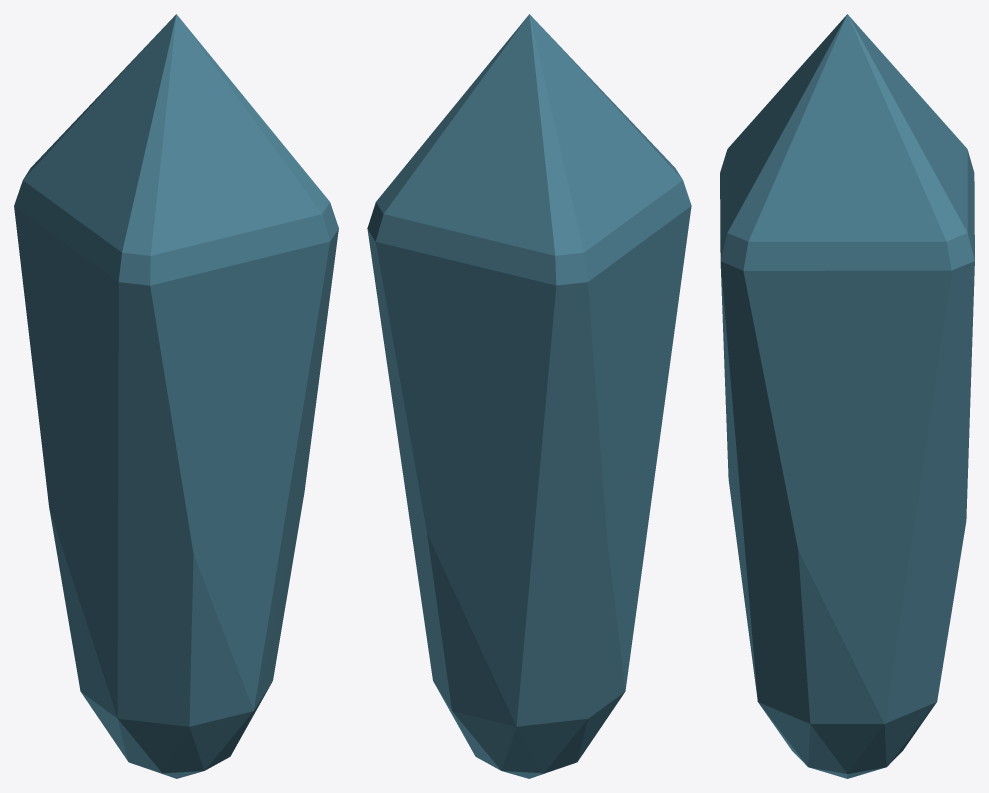
Rendered from SM_LP_RefinedMineral_2.fbx.
The picture shows the model from 3 angles, left to right: view 1: azimuth 30°, elevation 25°; view 2: azimuth 150°, elevation 25°; view 3: azimuth 270°, elevation 25°; orthographic projection.
Parts seen in each view (by area): view 1: SM_LP_RefinedMineral_2; view 2: SM_LP_RefinedMineral_2; view 3: SM_LP_RefinedMineral_2.
Boxes of the visible parts, x1,y1,x2,y2 form: SM_LP_RefinedMineral_2: (14, 14, 338, 778); SM_LP_RefinedMineral_2: (367, 14, 691, 778); SM_LP_RefinedMineral_2: (720, 14, 974, 778).
Size of the model in its own units: 0.1813 by 0.6002 by 0.1813.
